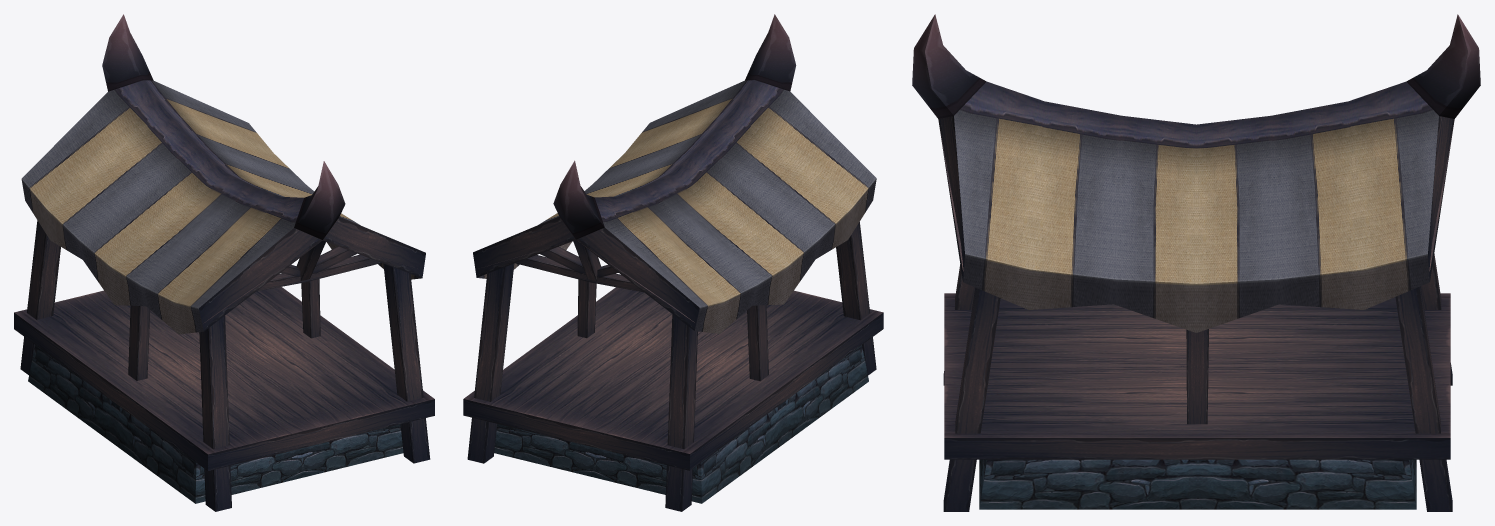
File: Stand_A.fbx
3 renders of one model, left to right at view 1: azimuth 30°, elevation 25°; view 2: azimuth 150°, elevation 25°; view 3: azimuth 270°, elevation 25°, orthographic. The views are drawn at different scales.
Visible parts, largest first — view 1: Stand_A; view 2: Stand_A; view 3: Stand_A.
Part boxes in pixels (x1=…): Stand_A: x1=14, y1=14, x2=434, y2=511; Stand_A: x1=463, y1=14, x2=883, y2=511; Stand_A: x1=912, y1=14, x2=1480, y2=511.
Size of the model in its own units: 140 by 192 by 231.
1 material, 1 textured.
